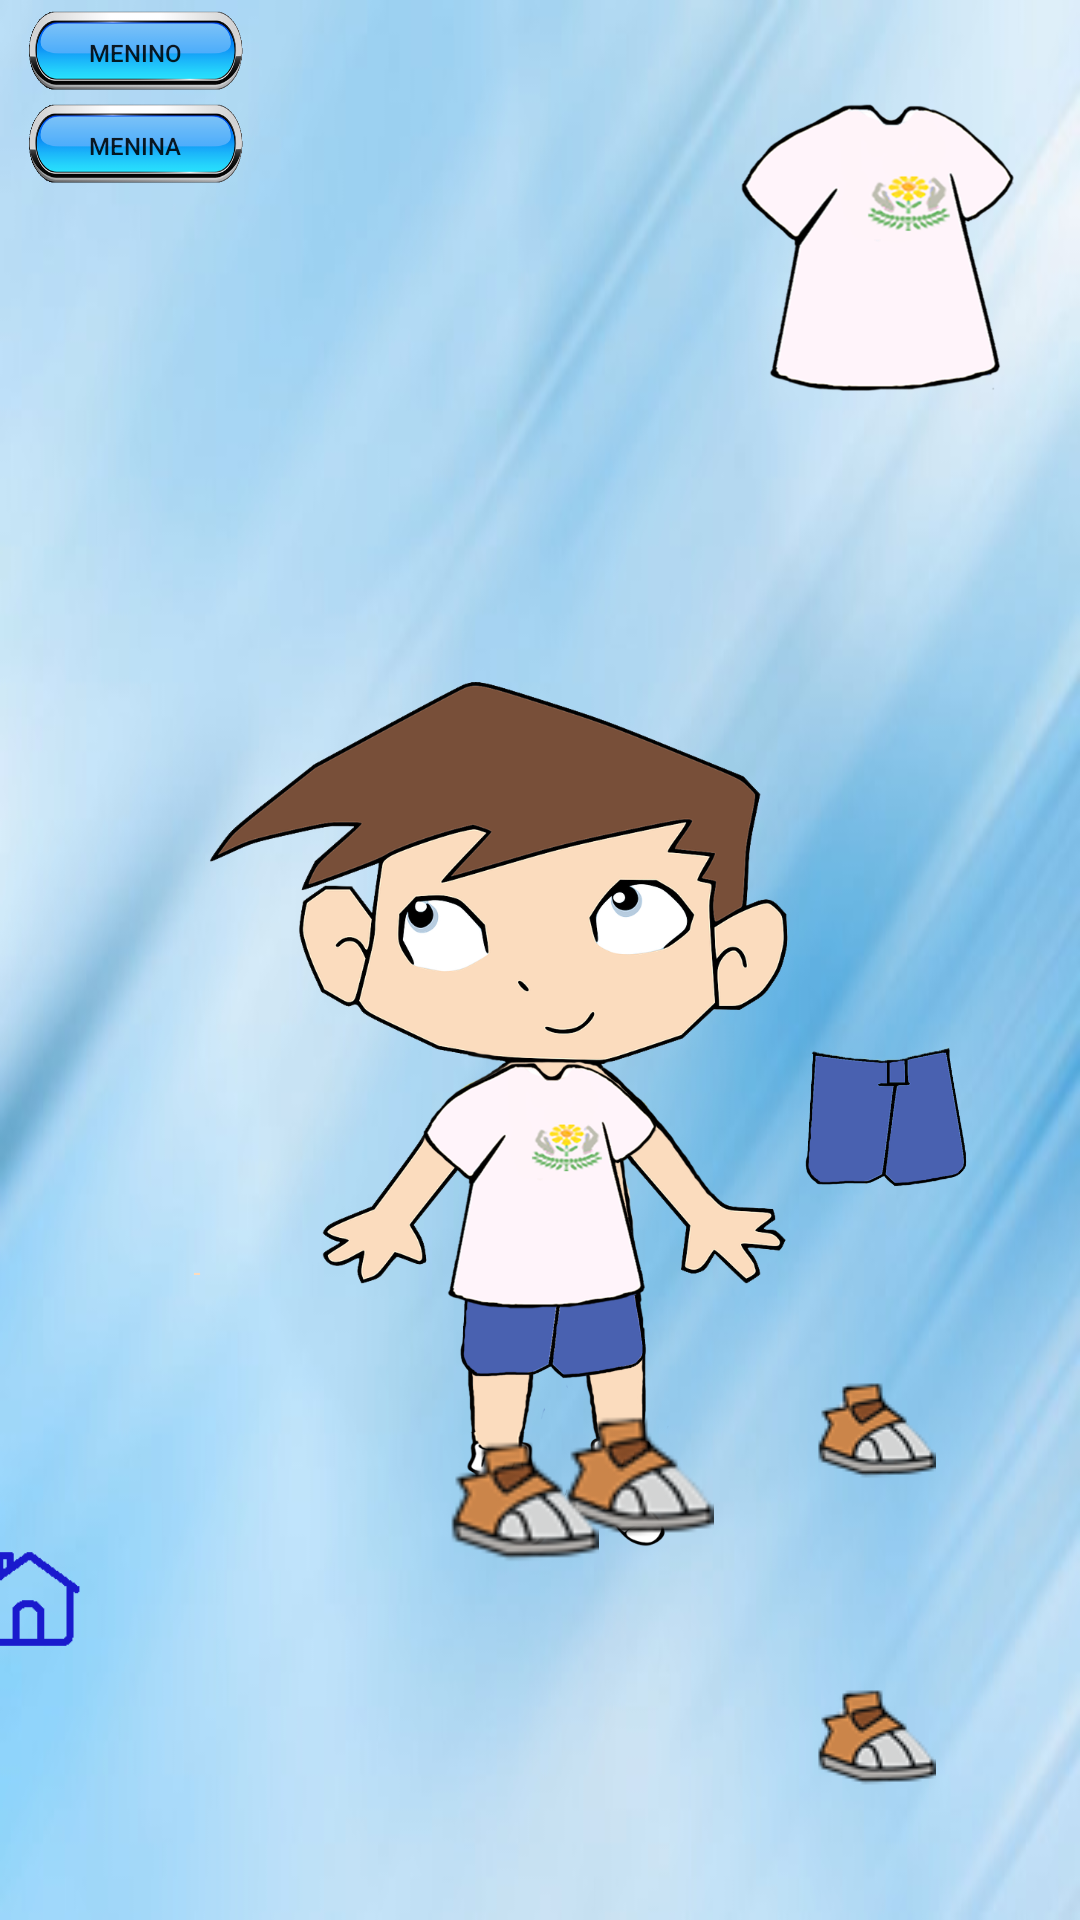

Icon click points for this 1080*1920 phone screenshot, format point (x, y):
sapato: point (877, 1430), point (639, 1475), point (525, 1492), point (877, 1737)
